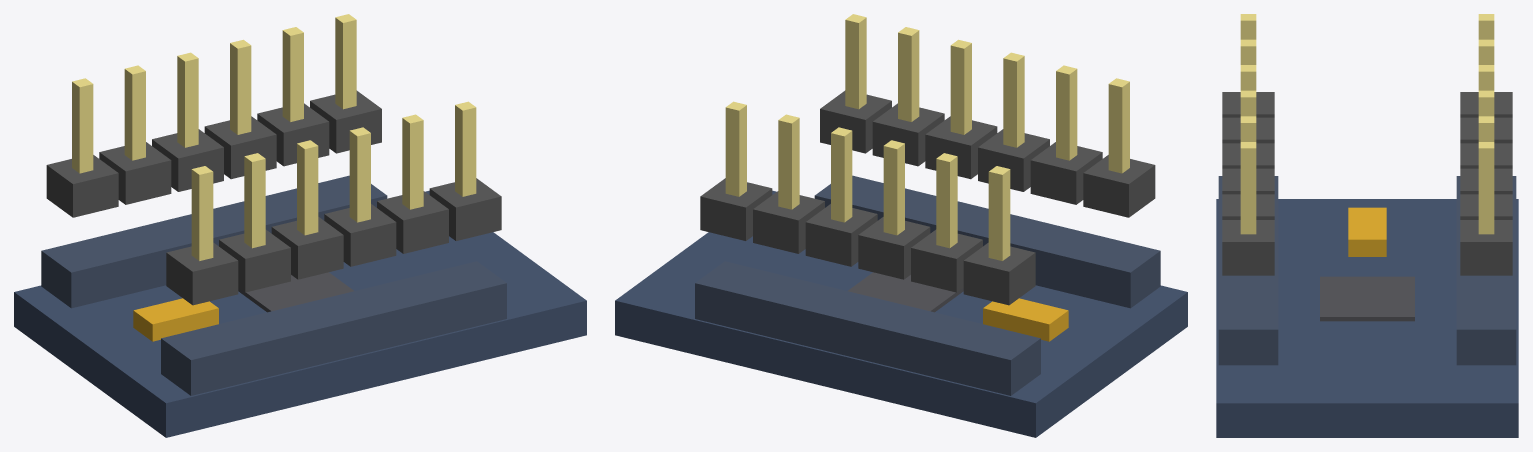
The model's file is drv8833-motor-driver.glb.
The picture shows the model from 3 angles, left to right: view 1: azimuth 30°, elevation 25°; view 2: azimuth 150°, elevation 25°; view 3: azimuth 270°, elevation 25°; orthographic projection.
Visible parts, largest first — view 1: drv8833-motor-driver_mesh; view 2: drv8833-motor-driver_mesh; view 3: drv8833-motor-driver_mesh.
Boxes of the visible parts, x1=… form: drv8833-motor-driver_mesh: x1=14, y1=14, x2=586, y2=437; drv8833-motor-driver_mesh: x1=615, y1=14, x2=1187, y2=437; drv8833-motor-driver_mesh: x1=1216, y1=14, x2=1518, y2=437.
Bounding box in the file's own units: 20.3 × 11.2 × 12.7.
